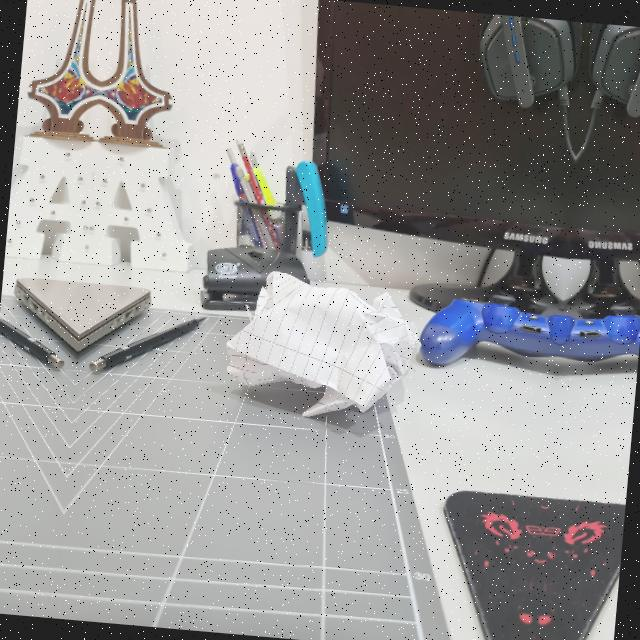paper: (228, 266, 426, 428)
